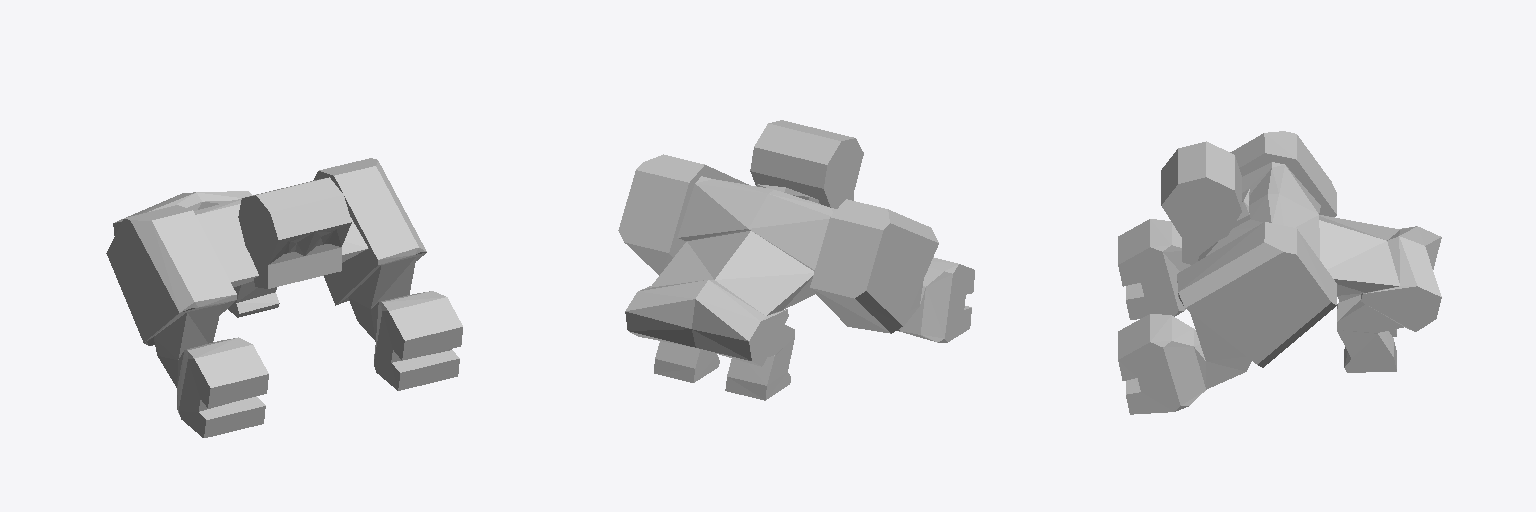
File: kong_000024.obj
3 renders of one model, left to right at view 1: azimuth 30°, elevation 25°; view 2: azimuth 150°, elevation 25°; view 3: azimuth 270°, elevation 25°, orthographic.
Visible parts, largest first — view 1: Cube; view 2: Cube; view 3: Cube.
Boxes of the visible parts, <box> form: Cube: <box>106,158,462,437</box>; Cube: <box>618,120,974,400</box>; Cube: <box>1118,131,1441,414</box>.
Size of the model in its own units: 5.84 by 4.24 by 6.44.